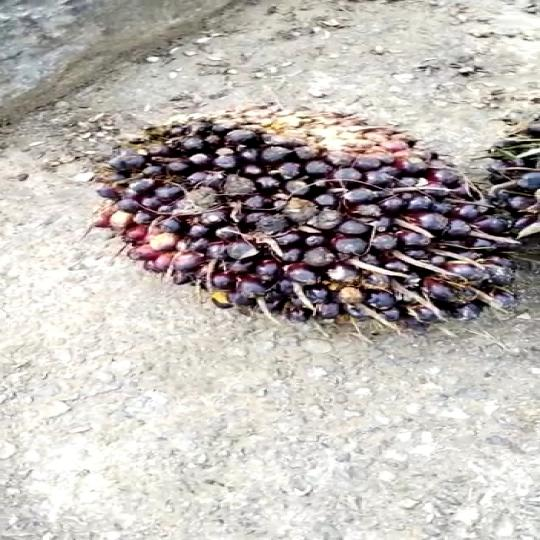mentah: (93, 87, 514, 350)
